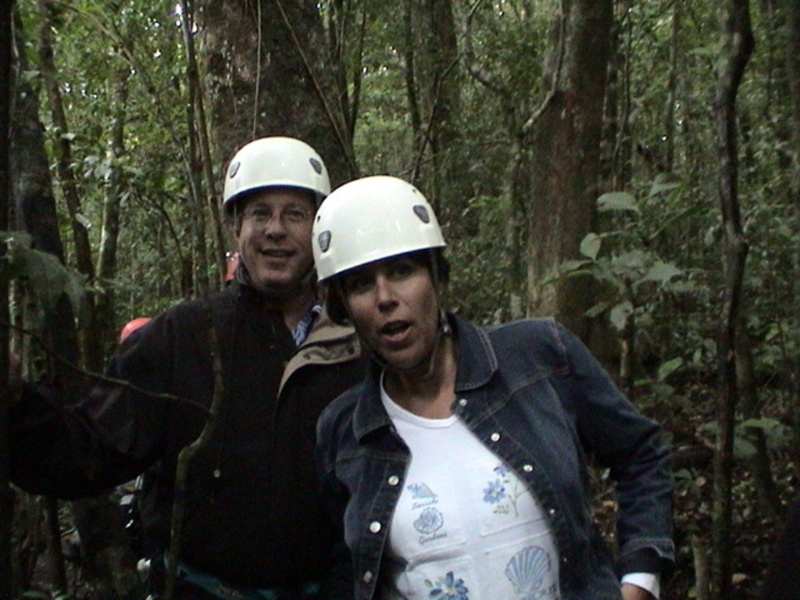helmet: (312, 177, 449, 277), (225, 135, 337, 201)
